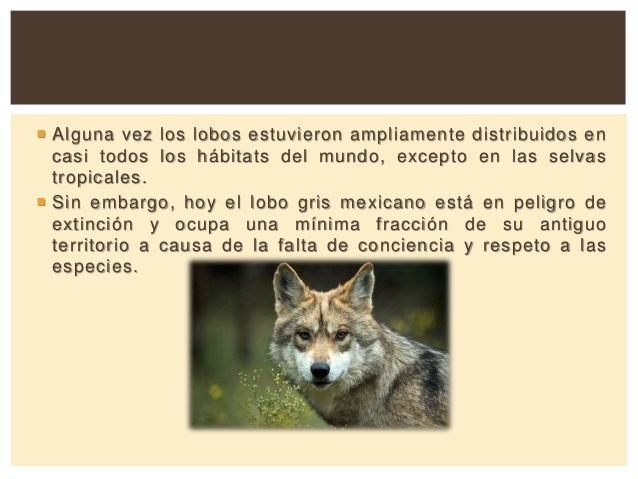Lobo: (251, 259, 446, 427)
